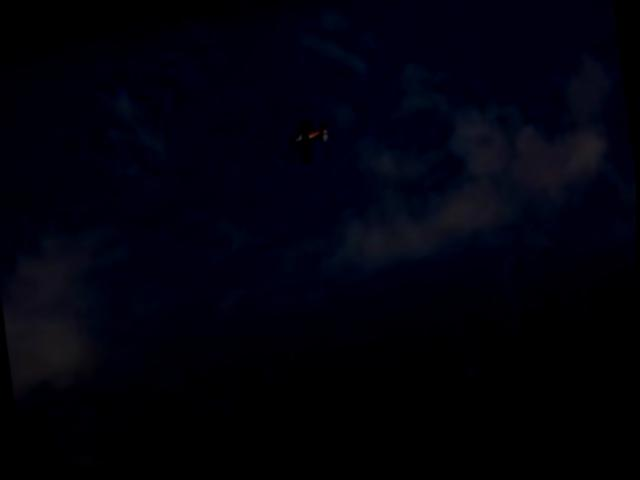uav: (286, 113, 337, 178)
